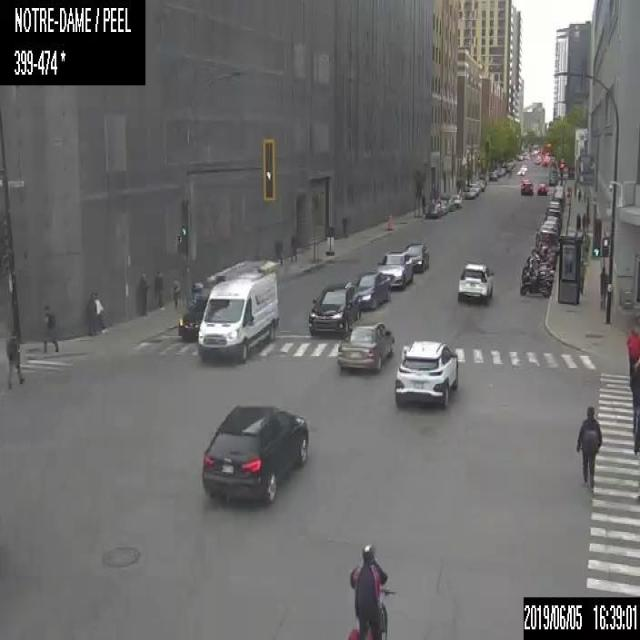construction: (325, 224, 334, 254), (387, 213, 392, 230)
cyclist: (347, 538, 398, 638)
pedestrian: (574, 406, 602, 494), (41, 297, 60, 356), (6, 327, 24, 385), (625, 326, 639, 386), (94, 290, 110, 335), (631, 358, 639, 434), (138, 270, 149, 314), (86, 290, 96, 335), (598, 266, 608, 310), (633, 398, 639, 456), (289, 231, 298, 262), (154, 271, 162, 305), (172, 276, 180, 307), (578, 260, 585, 294), (275, 236, 282, 264), (584, 233, 590, 257), (341, 214, 347, 237), (420, 192, 425, 213), (582, 232, 586, 256), (581, 211, 585, 232), (576, 210, 580, 231), (577, 188, 581, 201), (583, 189, 585, 202)
vehicle: (200, 400, 308, 500), (197, 258, 279, 361), (394, 337, 459, 407), (307, 282, 361, 337), (338, 320, 393, 373), (456, 261, 494, 303), (355, 270, 390, 310), (376, 250, 412, 286), (178, 296, 207, 338), (520, 270, 550, 297), (522, 255, 554, 280), (403, 241, 428, 271), (534, 224, 559, 245), (531, 246, 556, 265), (544, 208, 562, 225), (544, 216, 562, 232), (542, 220, 558, 234), (425, 205, 440, 218), (546, 200, 561, 213), (552, 192, 564, 208), (536, 180, 548, 195), (520, 181, 532, 194), (436, 199, 448, 211), (450, 194, 461, 205), (468, 182, 478, 194), (465, 188, 474, 198), (552, 185, 564, 192), (489, 172, 497, 180), (517, 167, 524, 175)
